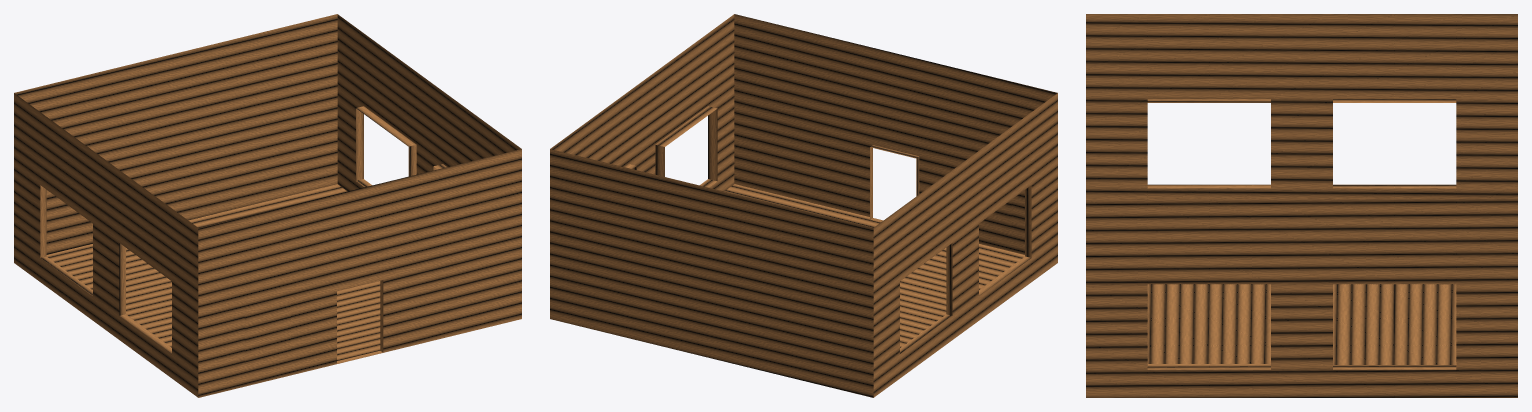
Rendered from siding.obj.
3 renders of one model, left to right at view 1: azimuth 30°, elevation 25°; view 2: azimuth 150°, elevation 25°; view 3: azimuth 270°, elevation 25°, orthographic. The views are drawn at different scales.
Visible parts, largest first — view 1: Cube; view 2: Cube; view 3: Cube.
Boxes of the visible parts, x1,y1,x2,y2 form: Cube: (14, 14, 521, 397); Cube: (550, 14, 1057, 397); Cube: (1086, 14, 1517, 397).
Size of the model in its own units: 3.98 by 2 by 3.93.
